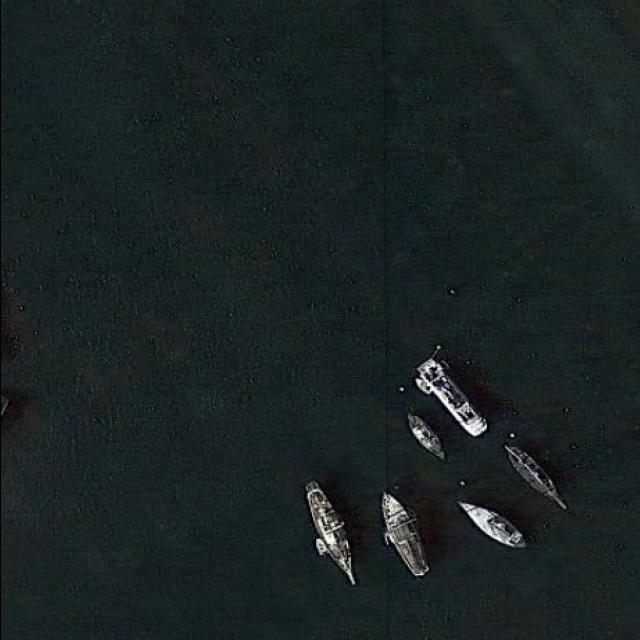ship: (412, 355, 488, 438), (302, 480, 359, 590), (378, 491, 431, 578), (503, 444, 569, 512), (452, 500, 526, 552), (405, 412, 447, 464)
